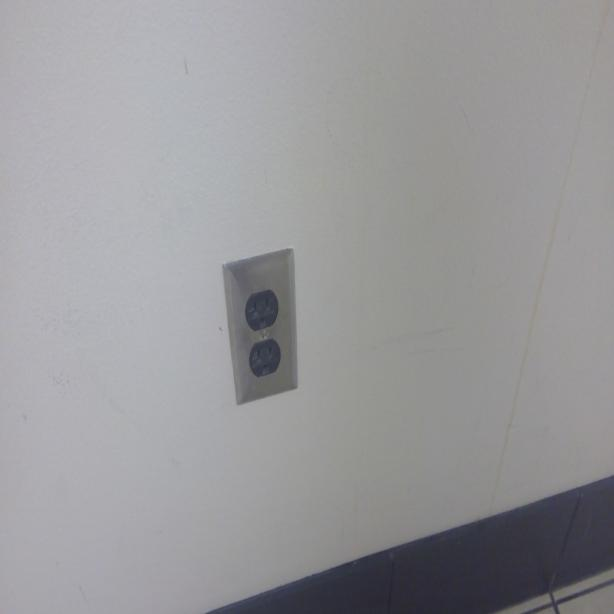typeb: (248, 292, 274, 328), (252, 342, 278, 377)
